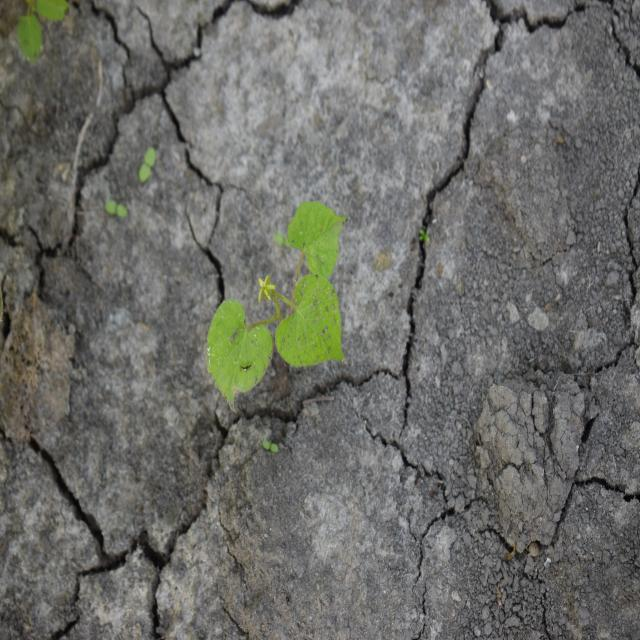MorningGlory: (205, 200, 349, 414)
